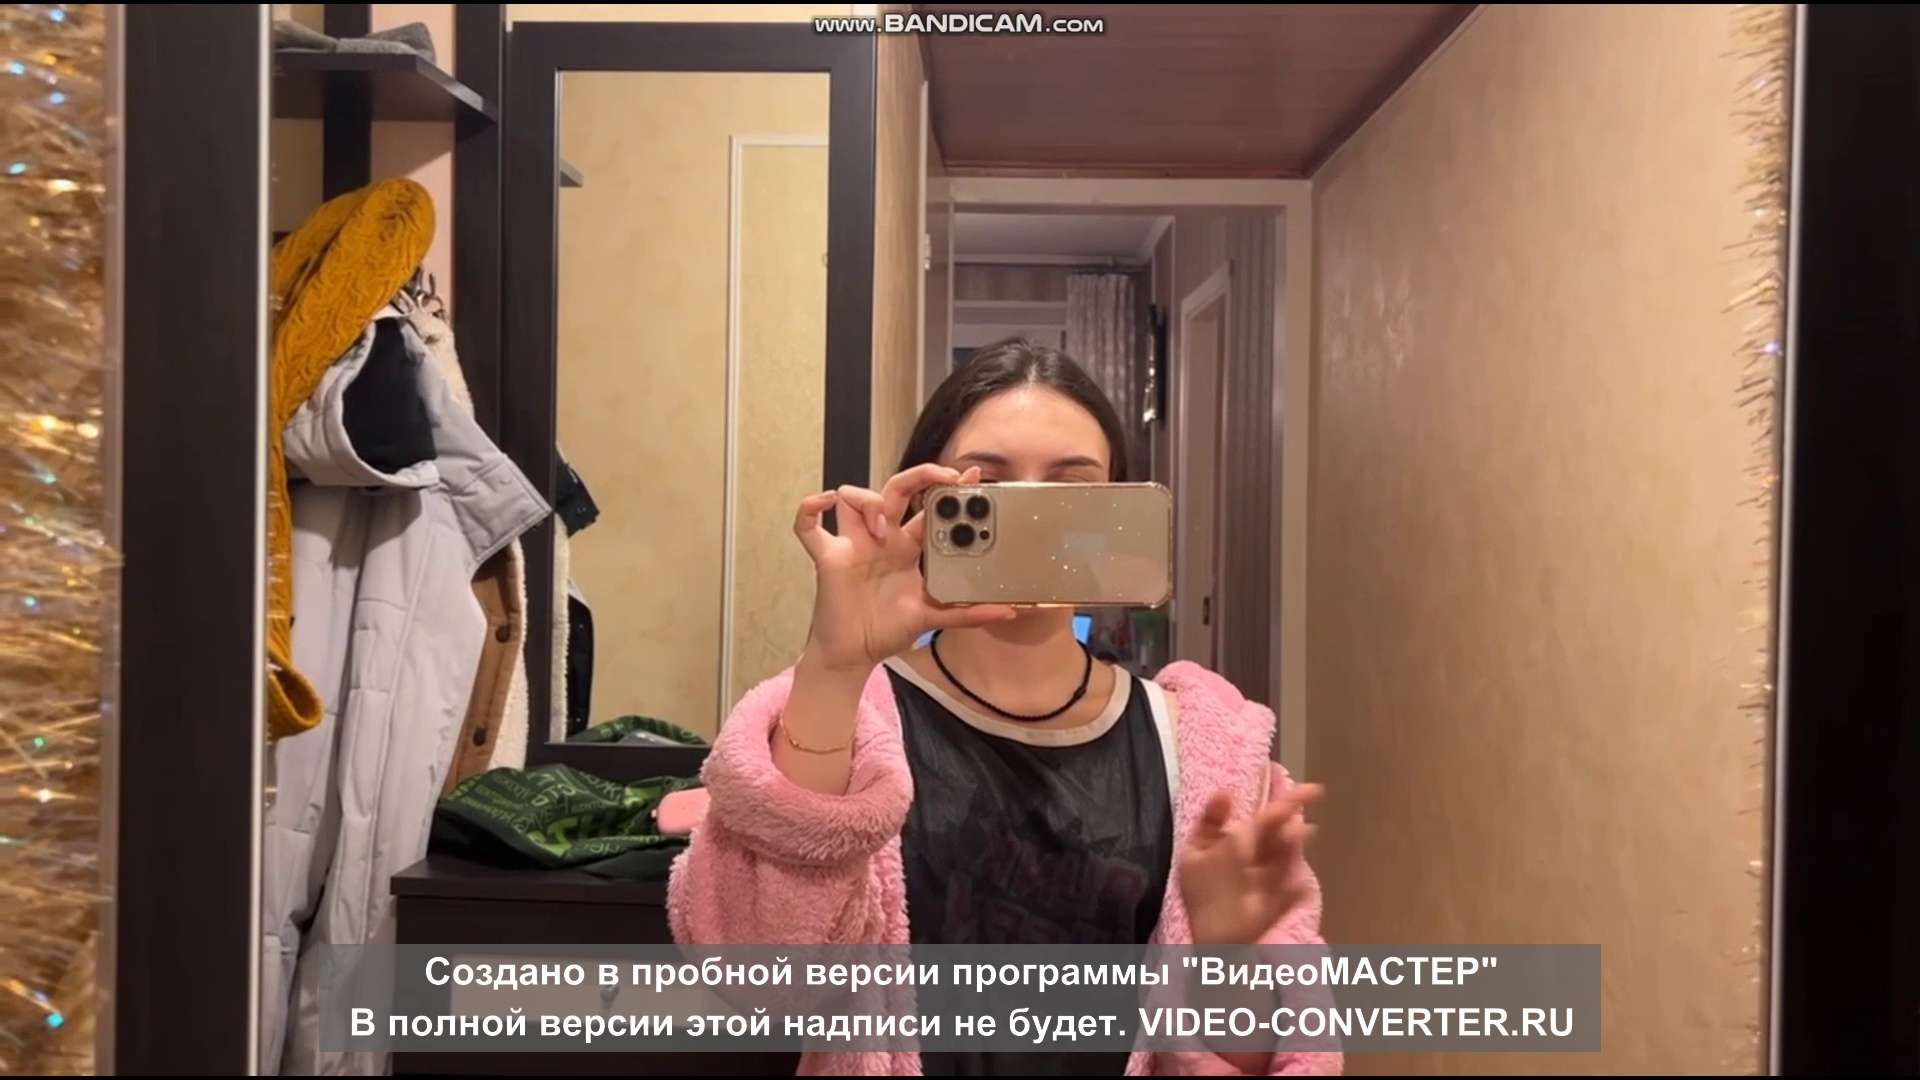Ладонь: (1178, 787, 1316, 942)
